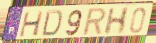0: (129, 7, 147, 34)
9: (64, 9, 83, 37)
D: (40, 9, 64, 38)
H: (102, 6, 131, 36), (18, 10, 45, 38)
R: (80, 7, 107, 37)
